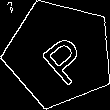P_NW: (28, 23, 91, 85)
